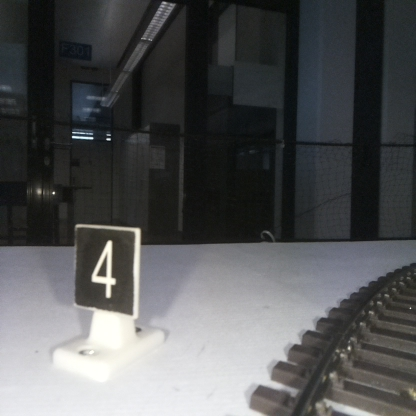black-stop-4: (76, 230, 134, 370)
